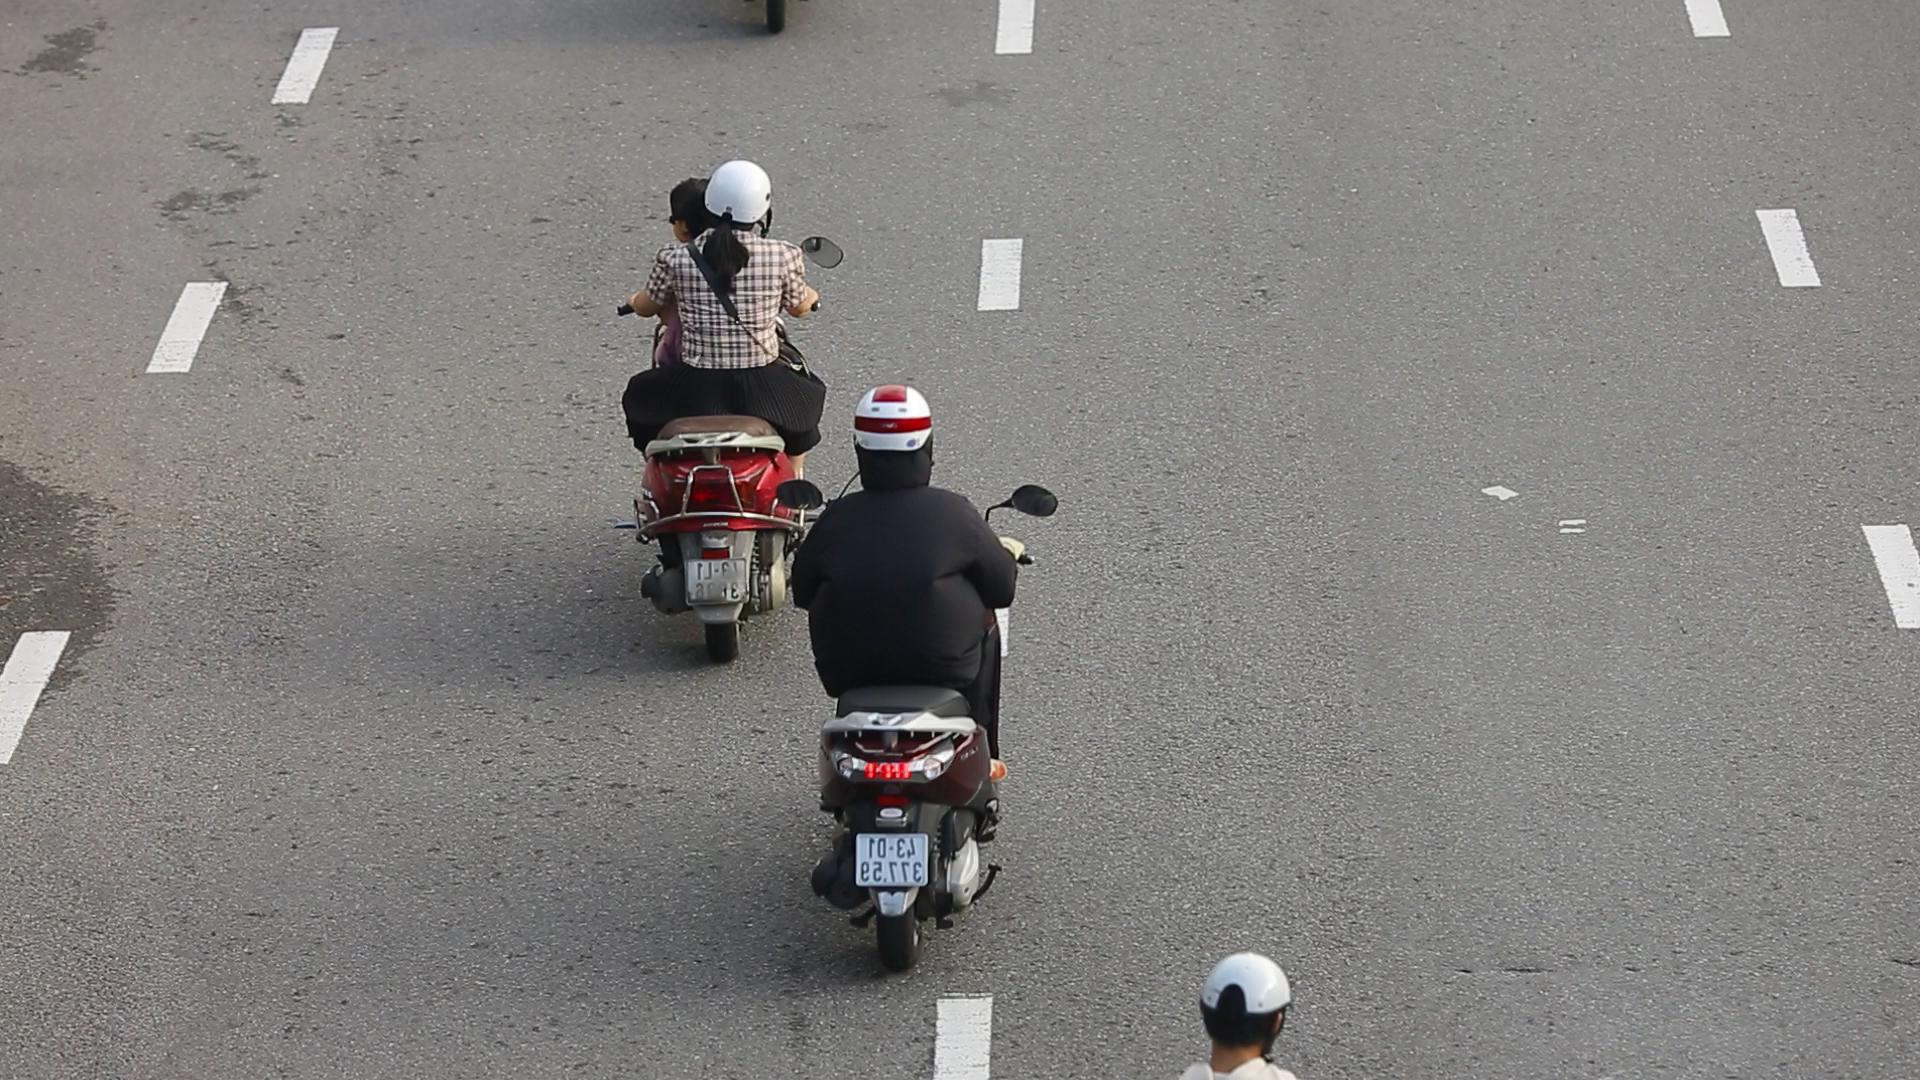motobike: (793, 372, 1067, 972), (607, 157, 845, 666)
